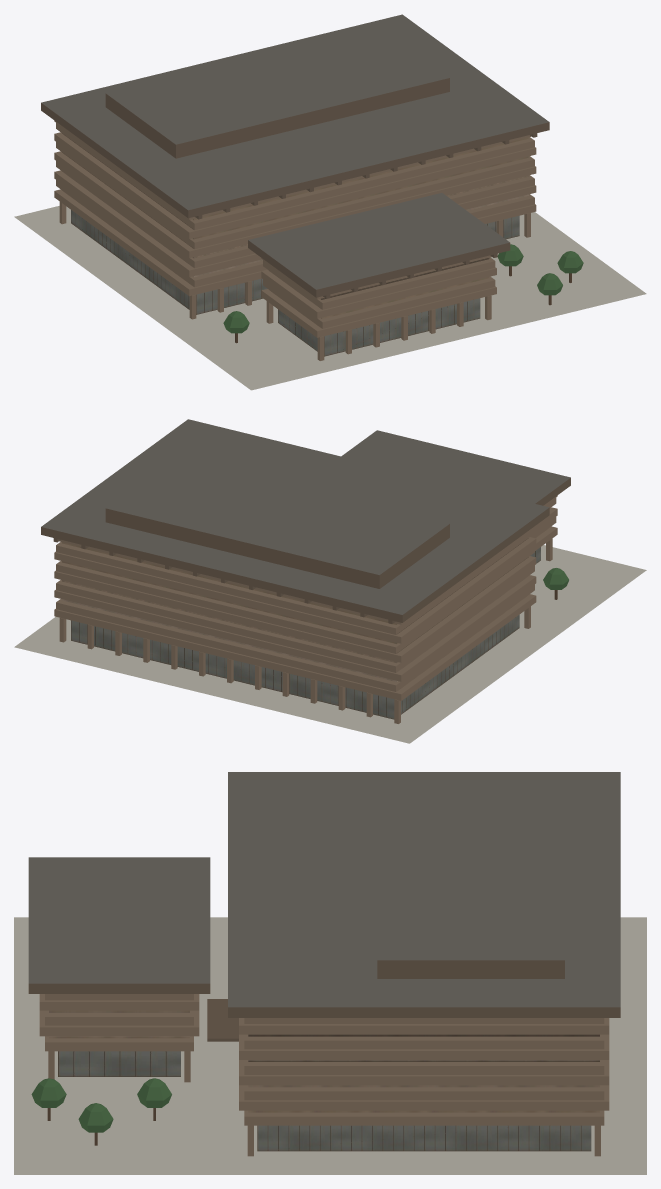
File: national_theatre.glb
The picture shows the model from 3 angles, top to bottom: view 1: azimuth 30°, elevation 25°; view 2: azimuth 150°, elevation 25°; view 3: azimuth 270°, elevation 25°; orthographic projection. The views are drawn at different scales.
Visible parts, largest first — view 1: national_theatre; view 2: national_theatre; view 3: national_theatre.
Part boxes in pixels (x1=…): national_theatre: x1=14, y1=14, x2=646, y2=390; national_theatre: x1=14, y1=419, x2=646, y2=743; national_theatre: x1=14, y1=772, x2=646, y2=1174.
Bounding box in the file's own units: 104 × 33 × 108.
Materials: 2 (2 with a texture image).
